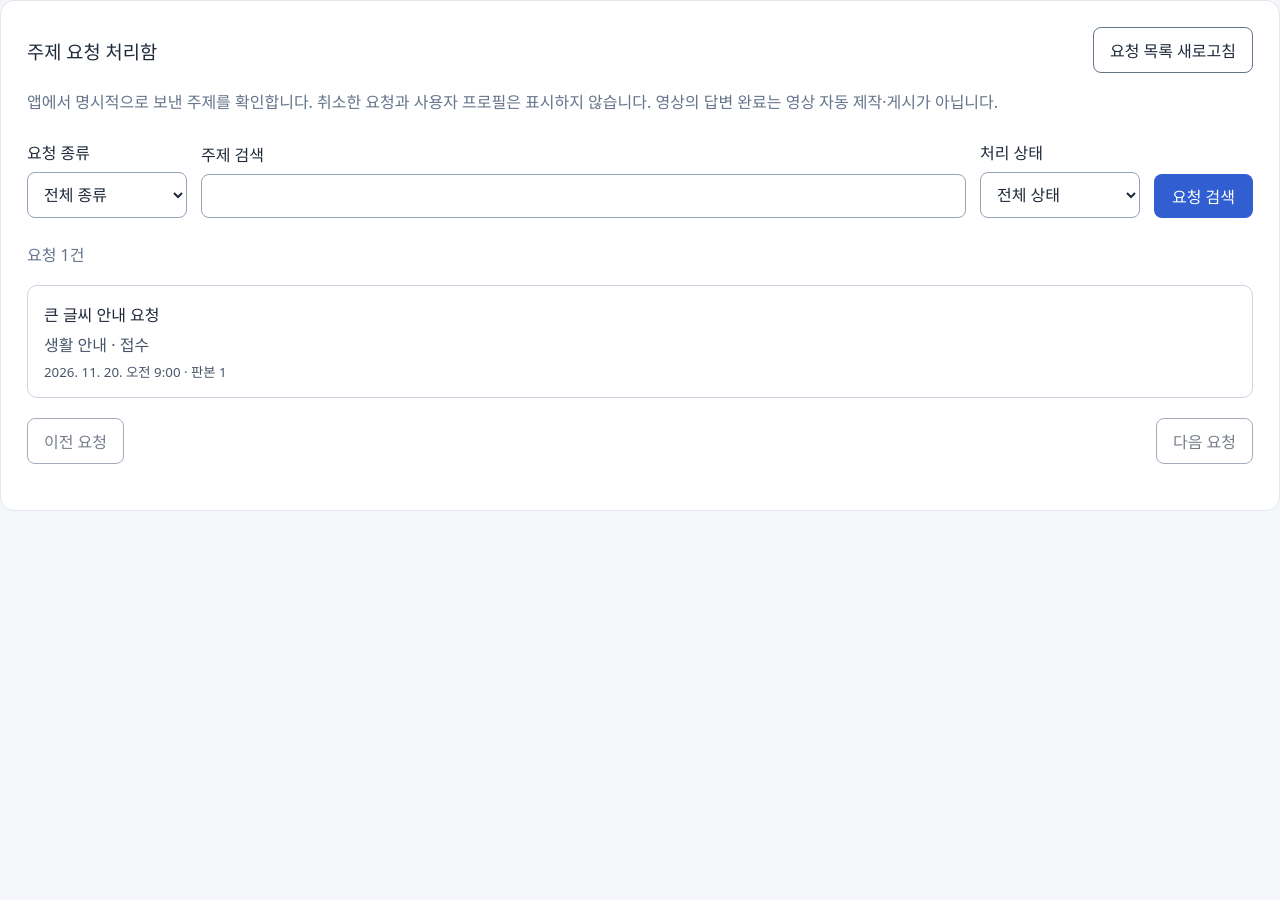
Scenario: 닫은 상세의 늦은 응답은 이전 원문과 답변을 되살리지 않는다
This screenshot has width=1280, height=900.
Click the button "큰 글씨 안내 요청" at [102, 315], box [27, 285, 1253, 398]
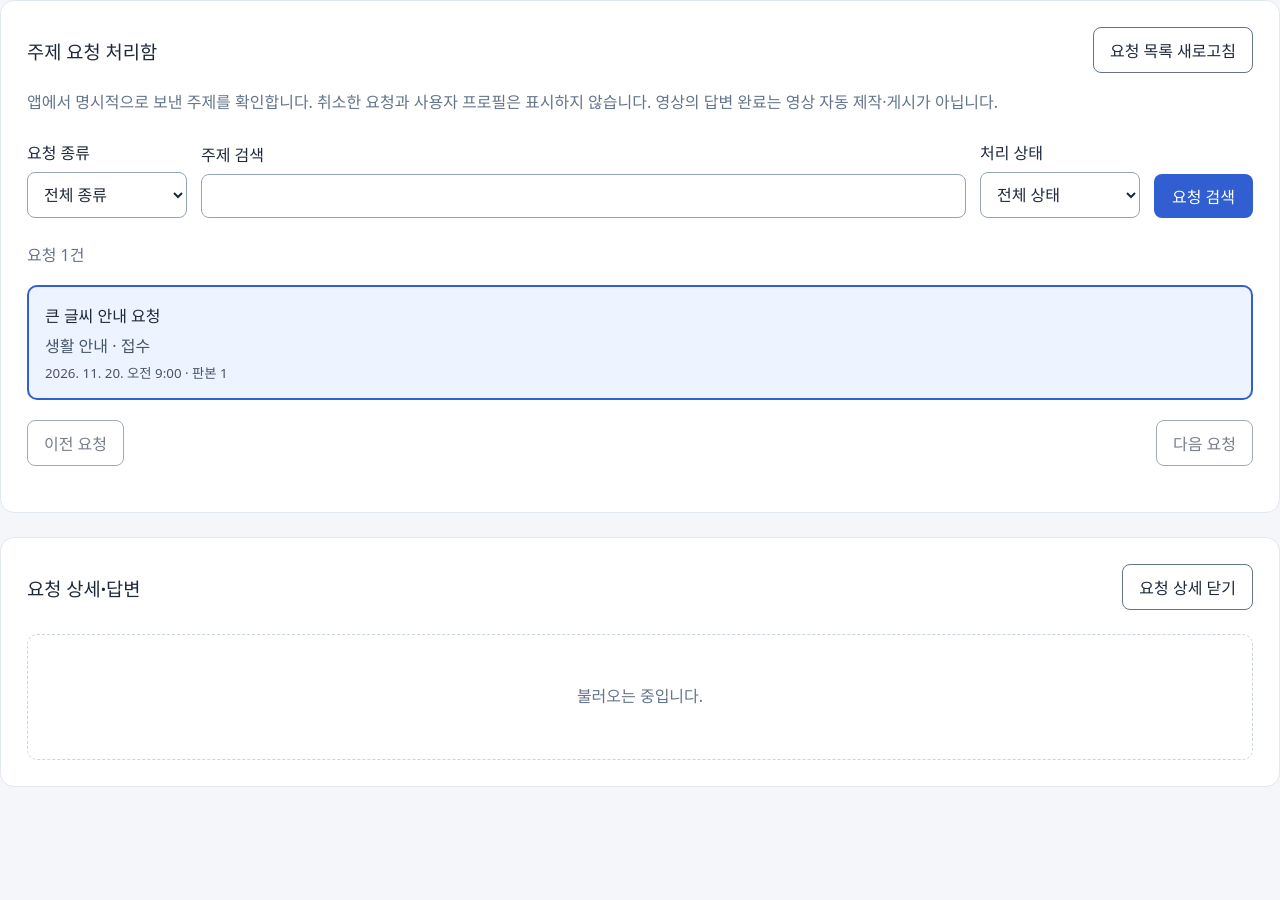
Click the button "요청 상세 닫기" at [1188, 587], box [1122, 564, 1253, 610]
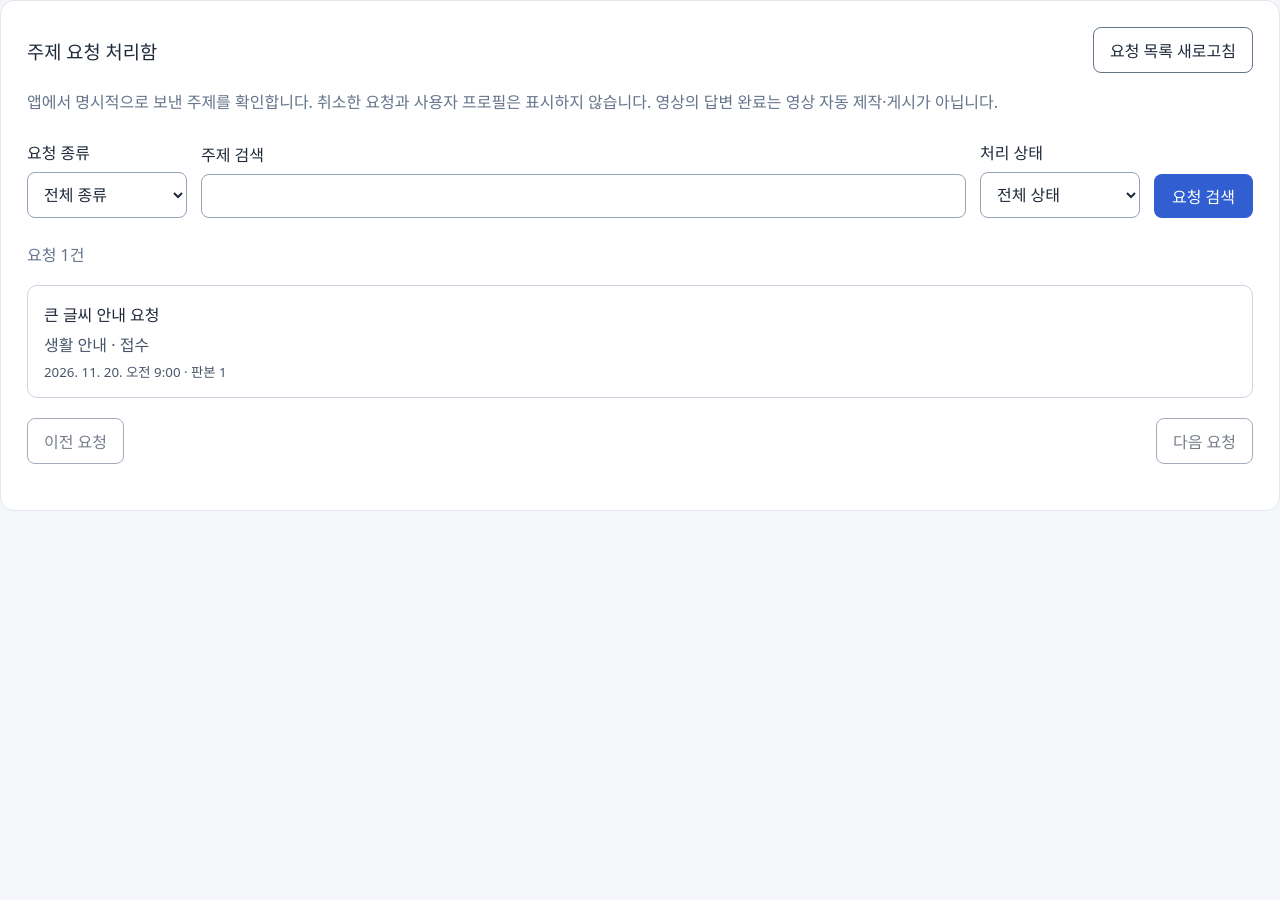
Check: the heading "요청 상세·답변" is gone
